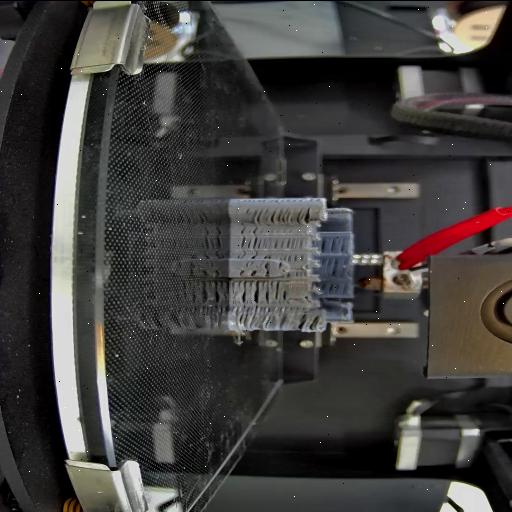cracks: (236, 306, 290, 330), (252, 206, 312, 222), (235, 279, 271, 304), (318, 235, 346, 252), (298, 310, 321, 330), (273, 236, 307, 248), (273, 280, 291, 300), (234, 250, 273, 259), (238, 236, 266, 248), (322, 256, 340, 274), (321, 280, 345, 293), (286, 268, 310, 278), (284, 252, 308, 262), (237, 225, 265, 233), (262, 260, 274, 276), (236, 268, 260, 276), (278, 260, 282, 268)
